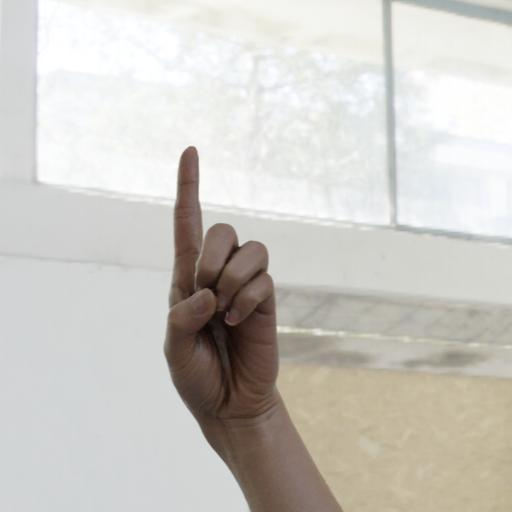D: (121, 104, 335, 472)
